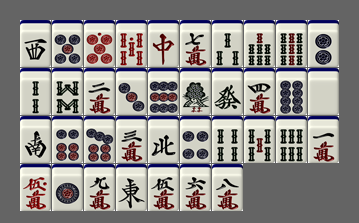0m: (20, 164, 51, 211)
0p: (84, 20, 115, 67)
0s: (116, 20, 147, 67)
1m: (308, 116, 339, 163)
1p: (52, 164, 83, 211)
1s: (180, 68, 211, 115)
1z: (116, 164, 147, 211)
2m: (84, 68, 115, 115)
2p: (308, 20, 339, 67)
2s: (20, 68, 51, 115)
2z: (20, 116, 51, 163)
3m: (116, 116, 147, 163)
3p: (116, 68, 147, 115)
3s: (212, 20, 243, 67)
3z: (20, 20, 51, 67)
4m: (244, 68, 275, 115)
4p: (180, 116, 211, 163)
4s: (212, 116, 243, 163)
4z: (148, 116, 179, 163)
5m: (148, 164, 179, 211)
5p: (52, 20, 83, 67)
5s: (244, 116, 275, 163)
5z: (308, 68, 339, 115)
6m: (180, 164, 211, 211)
6p: (52, 116, 83, 163)
6s: (276, 116, 307, 163)
6z: (212, 68, 243, 115)
7m: (180, 20, 211, 67)
7p: (84, 116, 115, 163)
7s: (244, 20, 275, 67)
7z: (148, 20, 179, 67)
8m: (212, 164, 243, 211)
8p: (276, 68, 307, 115)
8s: (52, 68, 83, 115)
9m: (84, 164, 115, 211)
9p: (148, 68, 179, 115)
9s: (276, 20, 307, 67)
